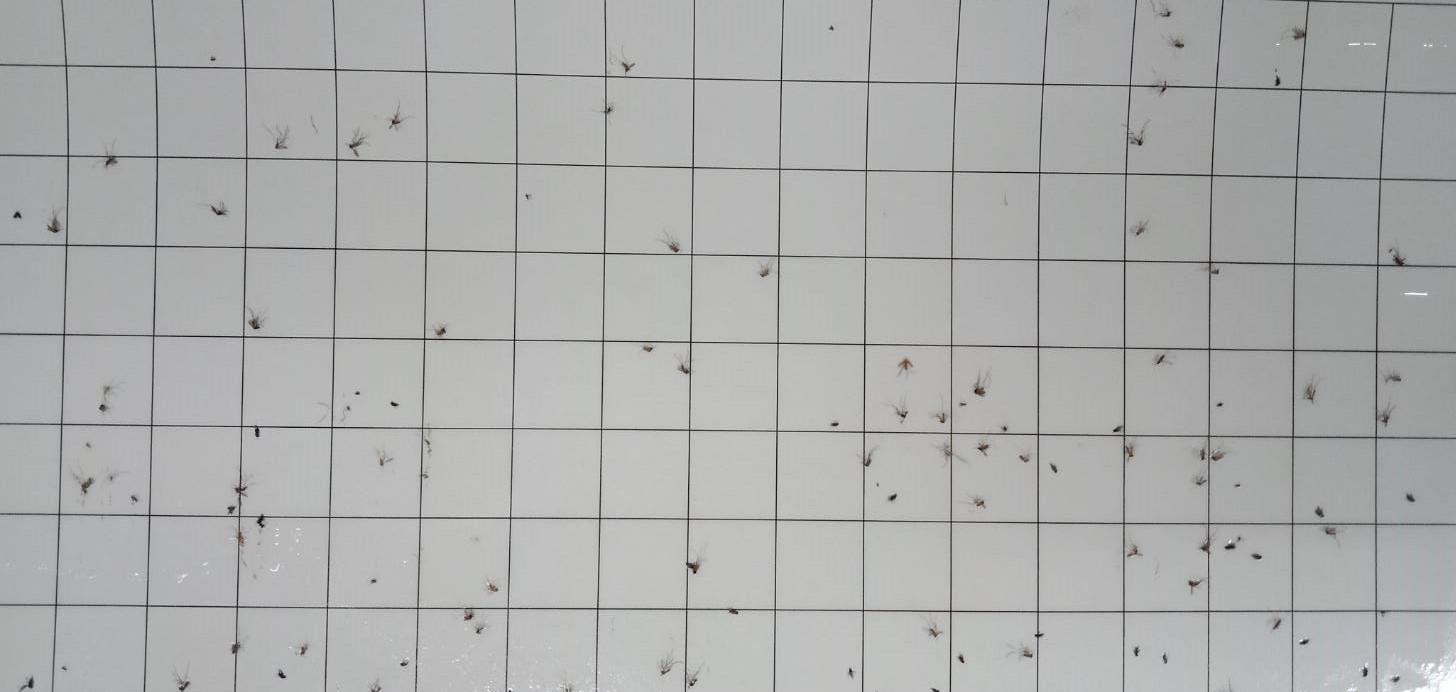test: (344, 126, 374, 160), (271, 125, 294, 151), (387, 106, 409, 131), (99, 148, 120, 169), (207, 200, 229, 219), (897, 357, 916, 377), (78, 476, 96, 496), (248, 314, 266, 333), (1185, 577, 1204, 595), (1290, 25, 1309, 43), (44, 217, 64, 234), (684, 559, 702, 577), (1153, 79, 1171, 97), (664, 238, 683, 255), (1126, 543, 1144, 560), (1384, 370, 1405, 384), (432, 322, 449, 339), (20, 675, 37, 692), (972, 381, 988, 399), (1378, 407, 1394, 425), (175, 676, 192, 692), (659, 662, 675, 679), (1198, 539, 1214, 556), (1130, 133, 1147, 149), (1304, 385, 1319, 403), (234, 484, 250, 500), (938, 444, 954, 460), (1211, 449, 1227, 465), (620, 60, 636, 76), (677, 361, 692, 377), (895, 408, 911, 423), (1159, 6, 1174, 22), (758, 264, 774, 279), (1122, 443, 1136, 460), (977, 442, 992, 457), (1312, 505, 1327, 520), (1393, 253, 1407, 268), (463, 607, 476, 623), (234, 531, 246, 548), (487, 582, 501, 596), (974, 497, 988, 511), (1271, 617, 1285, 631), (1171, 37, 1185, 51), (229, 641, 242, 656), (1195, 475, 1208, 490), (224, 503, 238, 516), (298, 643, 311, 657), (1155, 354, 1168, 368), (1405, 491, 1418, 505), (1134, 223, 1148, 236), (255, 514, 267, 529), (640, 342, 655, 354), (1198, 447, 1209, 463), (861, 455, 874, 468), (928, 626, 941, 639), (937, 411, 949, 425), (1111, 423, 1125, 435), (1208, 267, 1222, 279), (726, 606, 741, 617), (1018, 453, 1031, 465), (1223, 541, 1237, 552), (253, 426, 263, 441), (102, 384, 113, 397), (688, 676, 699, 689), (1049, 462, 1060, 475), (1131, 645, 1142, 658), (1251, 552, 1264, 563), (378, 455, 388, 469), (1273, 74, 1283, 88), (847, 666, 856, 681), (12, 209, 23, 221), (277, 668, 288, 680), (474, 625, 486, 636), (887, 492, 899, 503), (1360, 666, 1371, 678), (603, 104, 614, 116), (96, 403, 109, 413), (418, 471, 431, 481), (1023, 650, 1036, 660), (1161, 652, 1171, 665), (1324, 527, 1337, 537), (130, 493, 140, 505), (957, 653, 967, 665), (1032, 631, 1047, 639), (1298, 637, 1310, 647), (1391, 675, 1403, 685), (1000, 424, 1011, 434), (84, 441, 94, 451), (390, 400, 400, 410), (827, 23, 837, 33), (399, 659, 410, 668), (829, 419, 840, 428), (524, 192, 533, 203), (370, 684, 382, 692), (60, 664, 69, 674), (1233, 481, 1243, 490), (208, 55, 217, 64), (370, 577, 379, 586), (425, 437, 433, 447), (1235, 535, 1245, 543), (959, 400, 968, 408), (1216, 400, 1224, 409), (354, 390, 362, 398), (345, 404, 353, 412), (108, 474, 116, 482), (931, 685, 940, 692), (1378, 609, 1385, 617), (875, 481, 881, 490)
